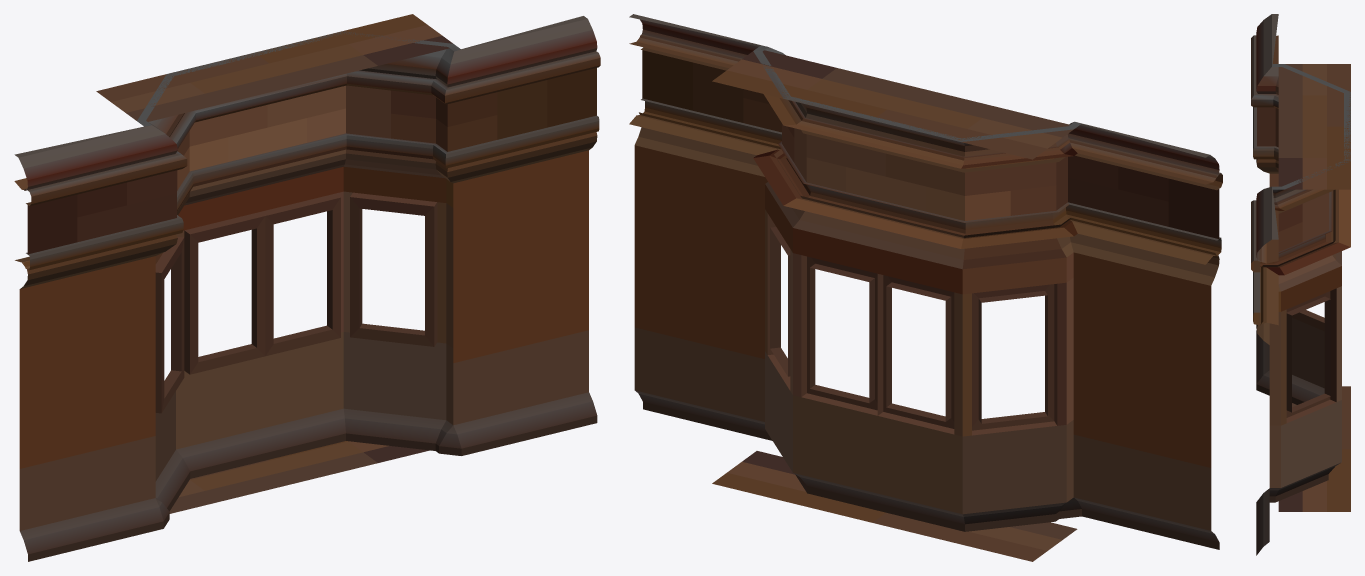
Rendered from Wall_HomeA-4WindowA-6m.fbx.
The picture shows the model from 3 angles, left to right: view 1: azimuth 30°, elevation 25°; view 2: azimuth 150°, elevation 25°; view 3: azimuth 270°, elevation 25°; orthographic projection. The views are drawn at different scales.
Visible parts, largest first — view 1: Wall_HomeA-4WindowA-6m; view 2: Wall_HomeA-4WindowA-6m; view 3: Wall_HomeA-4WindowA-6m.
Part boxes in pixels (x1,y1,x2,y2): Wall_HomeA-4WindowA-6m: (14, 14, 600, 561); Wall_HomeA-4WindowA-6m: (629, 14, 1222, 561); Wall_HomeA-4WindowA-6m: (1251, 14, 1350, 555).
Bounding box in the file's own units: 600 × 400 × 112.
